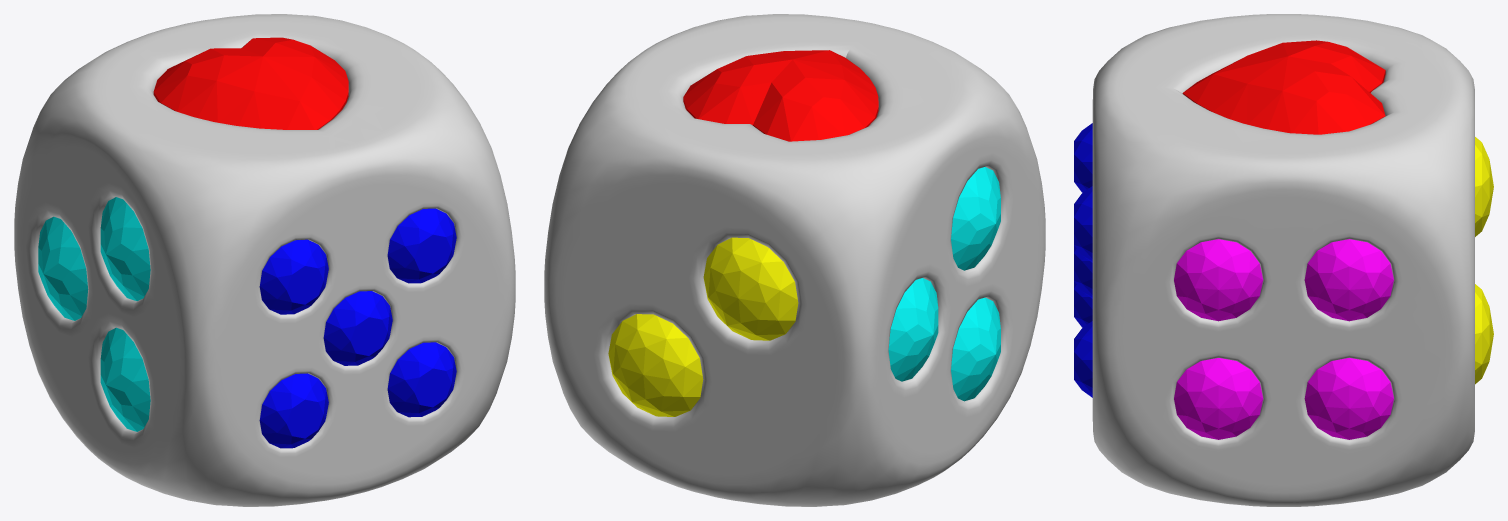
Rendered from GemDiceH.glb.
3 renders of one model, left to right at view 1: azimuth 30°, elevation 25°; view 2: azimuth 150°, elevation 25°; view 3: azimuth 270°, elevation 25°, orthographic.
Visible parts, largest first — view 1: GemHeart; view 2: GemHeart; view 3: GemHeart.
Part boxes in pixels (<box>): GemHeart: <box>14,14,515,506</box>; GemHeart: <box>544,14,1045,506</box>; GemHeart: <box>1074,14,1493,506</box>.
Size of the model in its own units: 0.5489 by 0.5693 by 0.5493.
